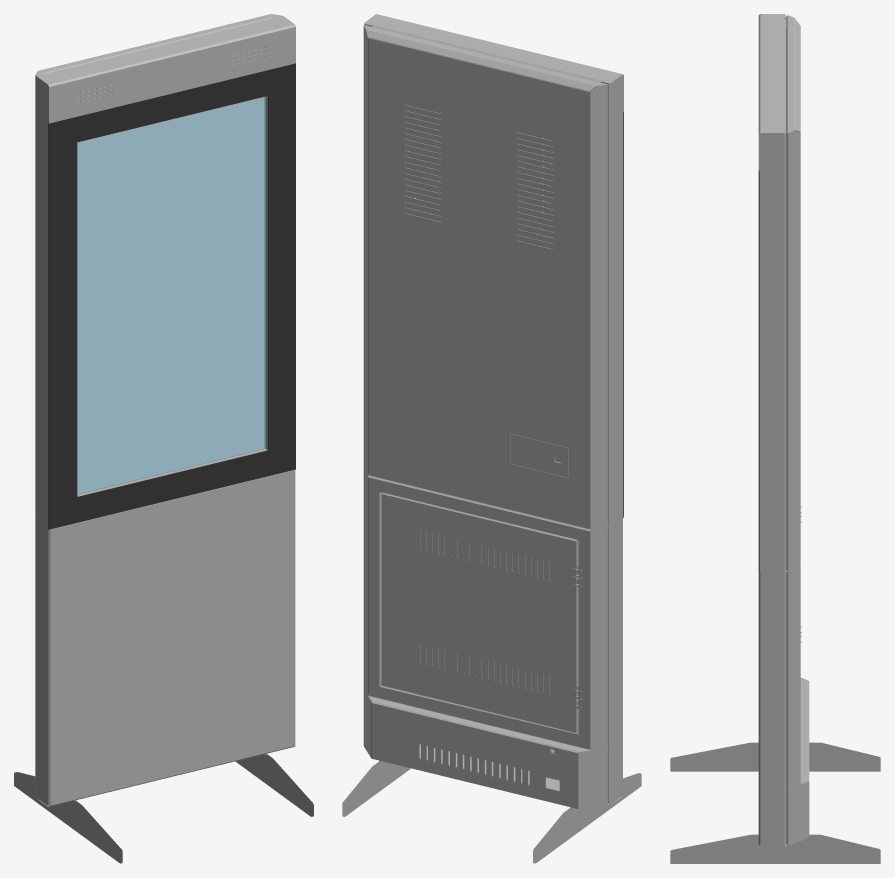
The model's file is terminal.glb.
3 views of the same model, side by side, from view 1: azimuth 30°, elevation 25°; view 2: azimuth 150°, elevation 25°; view 3: azimuth 270°, elevation 25° (orthographic).
Parts seen in each view (by area): view 1: Level0:NURBS; view 2: Level0:NURBS; view 3: Level0:NURBS.
Boxes of the visible parts, x1=… form: Level0:NURBS: x1=14, y1=14, x2=313, y2=863; Level0:NURBS: x1=342, y1=14, x2=641, y2=863; Level0:NURBS: x1=670, y1=14, x2=880, y2=863.
Bounding box in the file's own units: 1.42 × 4.12 × 1.06.
